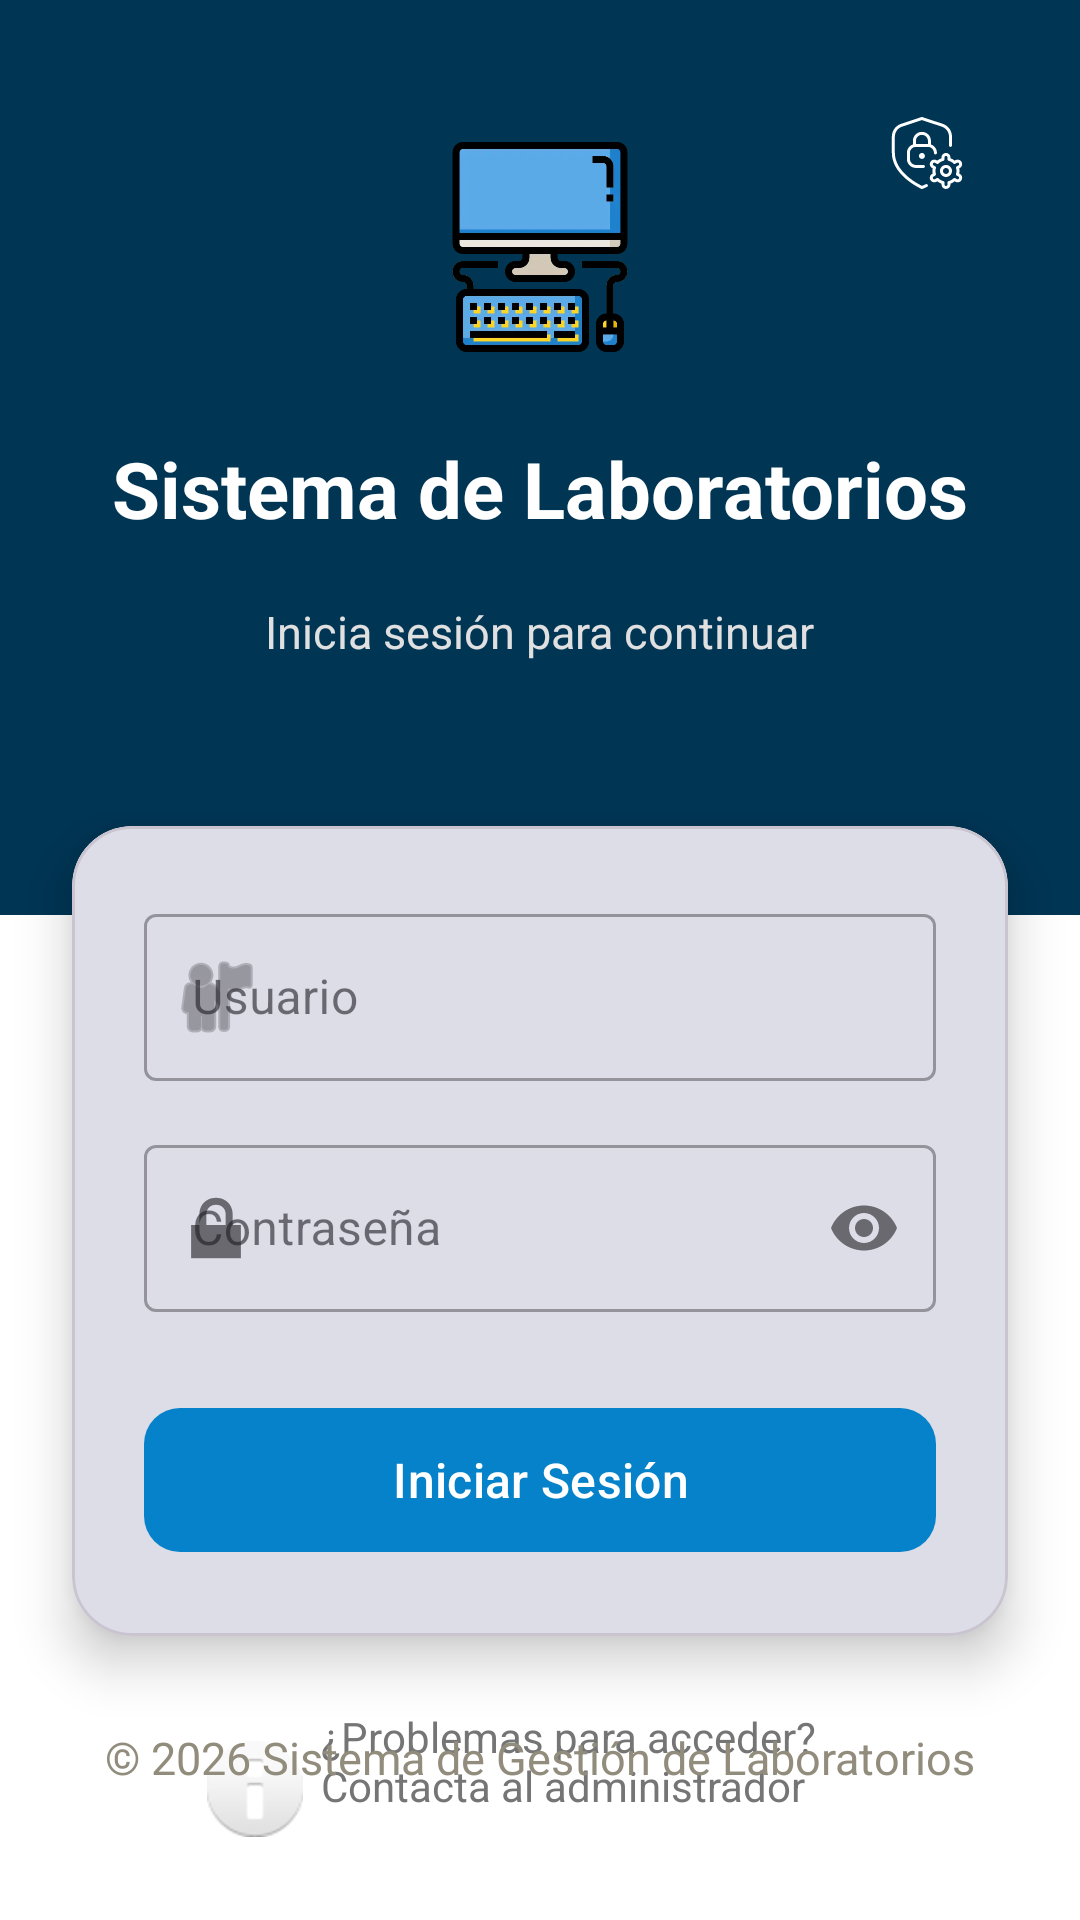

Icon click points for this 1080x1920 phone screenshot, format [x,y]:
lab: [540,247]
